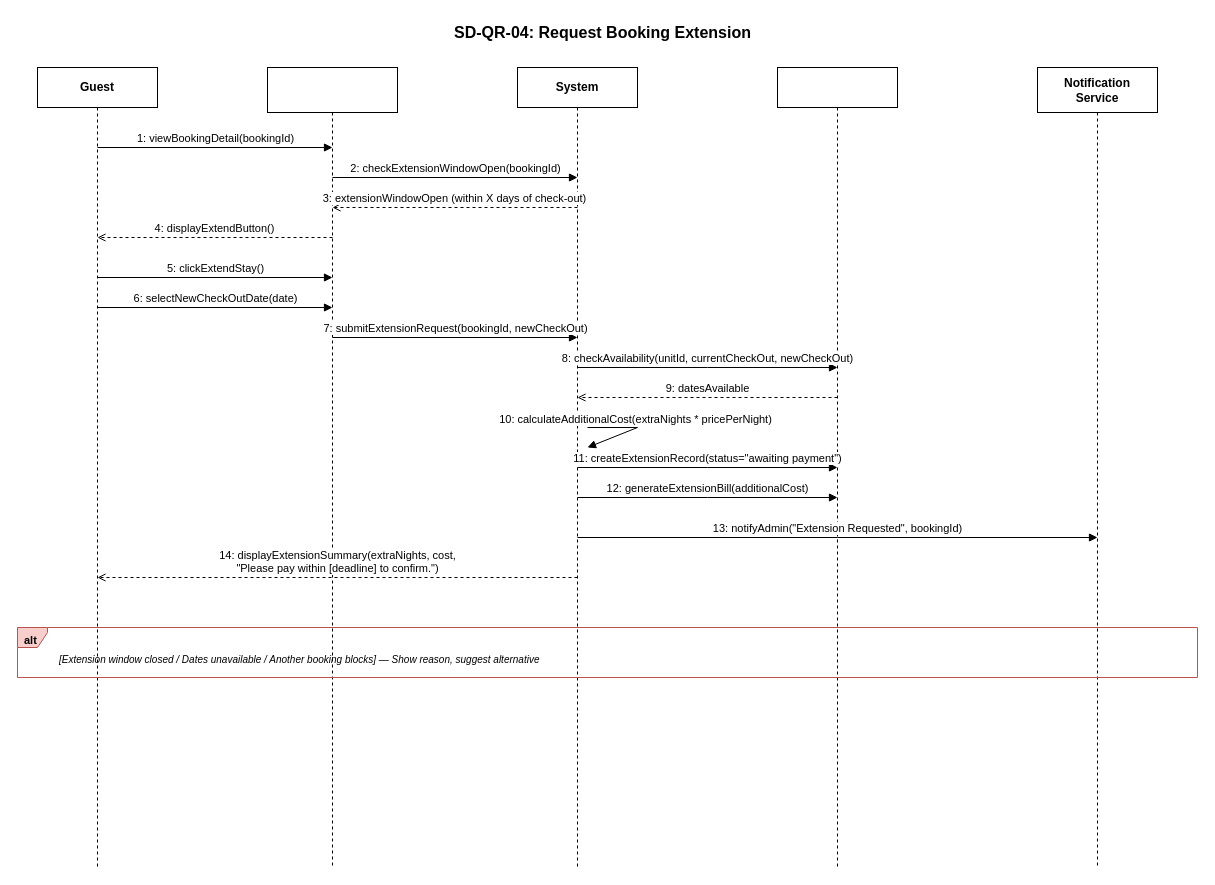
This 1215x885 diagram has some shape labels left out. Here are the shapes that lost their labels. From the top down, the box of each, then its label:
(266, 66, 398, 868): Booking Detail Page
(776, 66, 898, 868): Database
